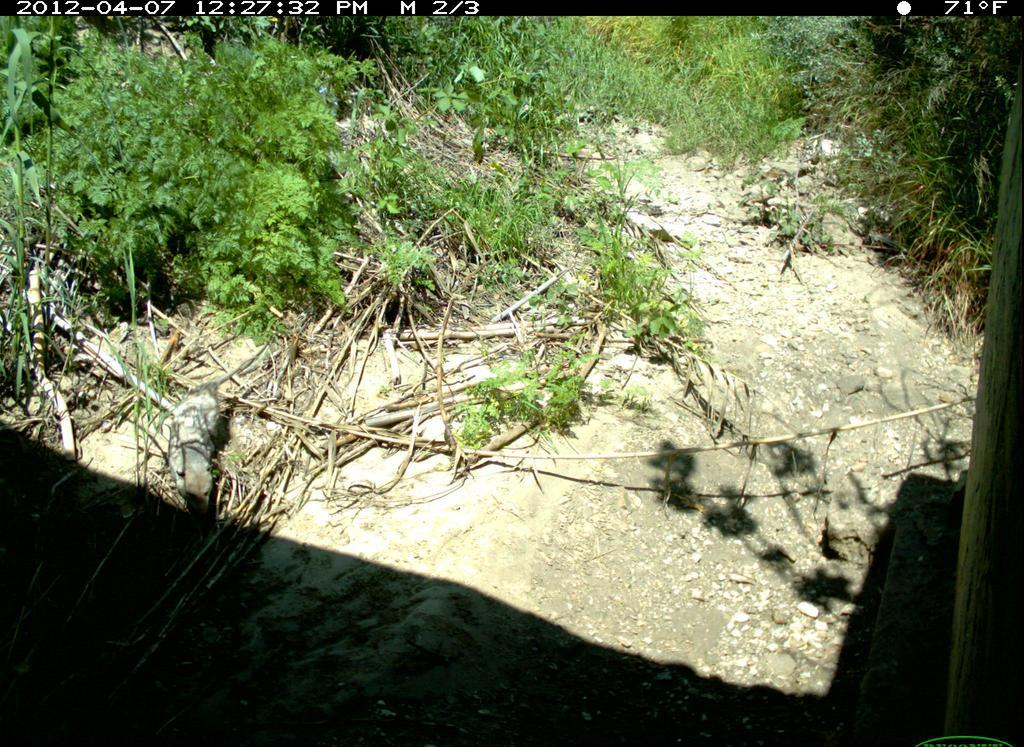opossum: (157, 351, 271, 520)
